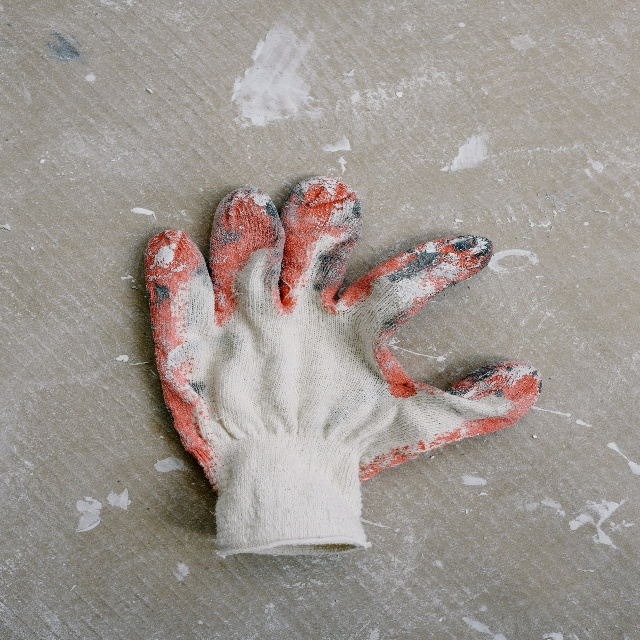Guantes: (145, 171, 544, 559)
